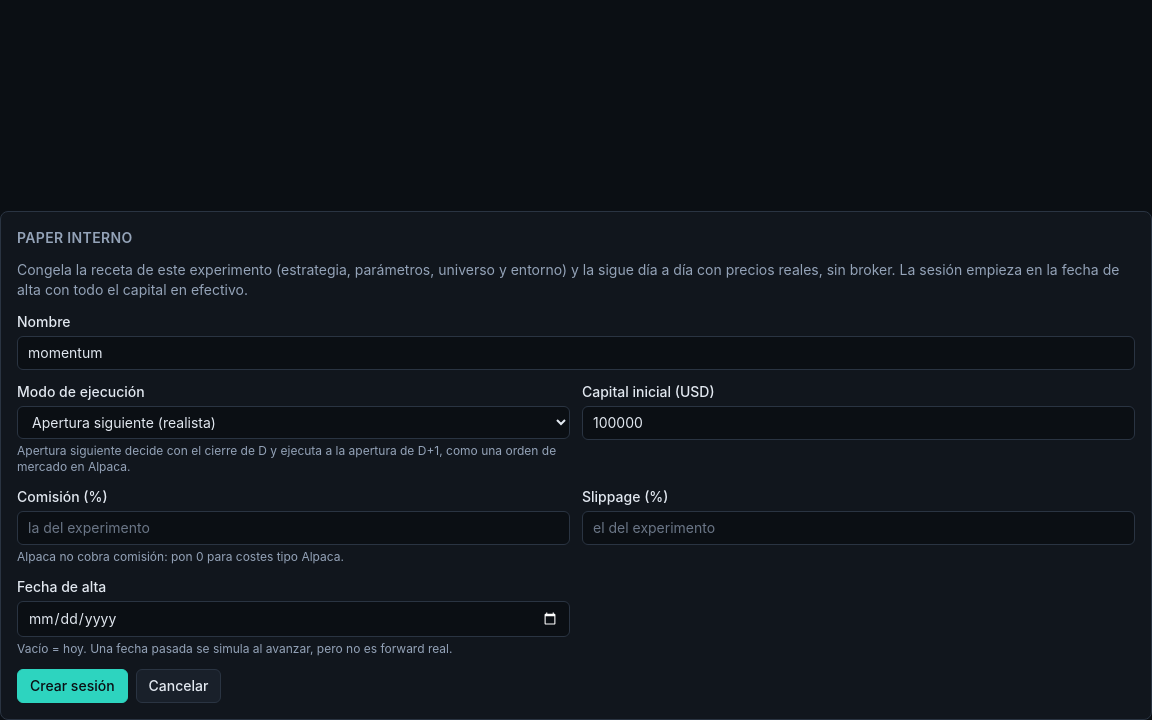
Test: CrearSesionPaper › crea la sesión y navega a su detalle
(page scrolled)
Select "Al cierre (optimista, como el backtest)" in the dropdown labelled "Modo de ejecución": (294, 422) 17,406 -> 570,439
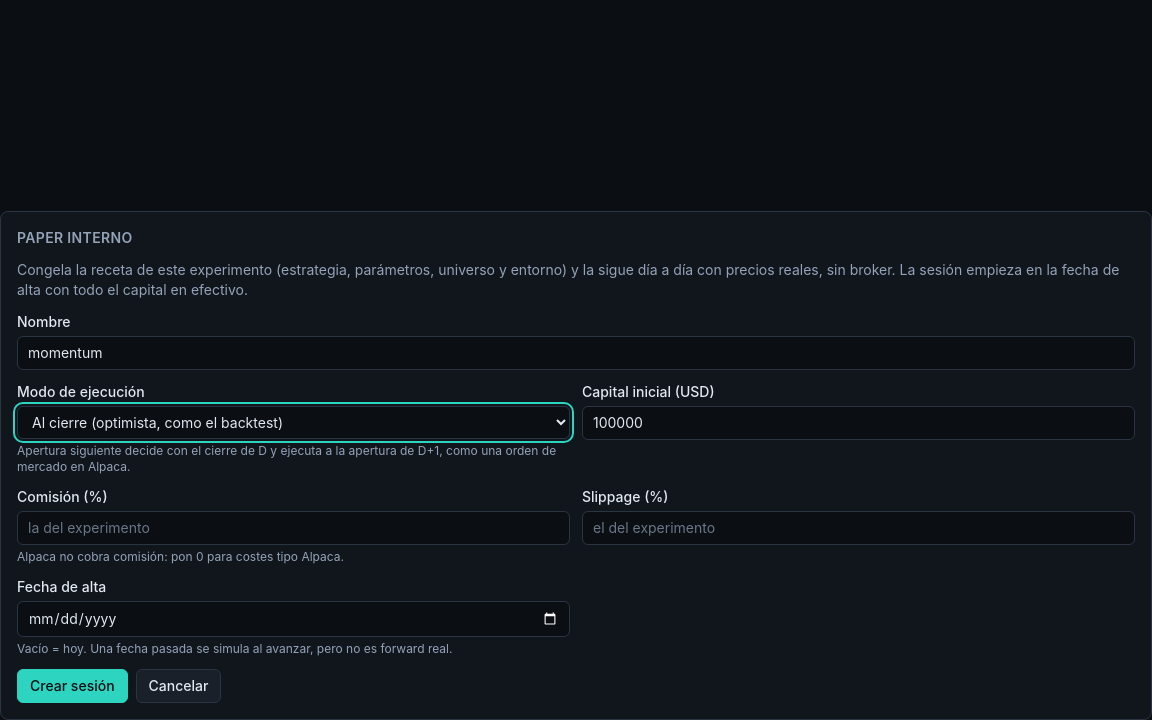
Click the button "Crear sesión": (72, 686) 17,669 -> 128,703
(page scrolled)
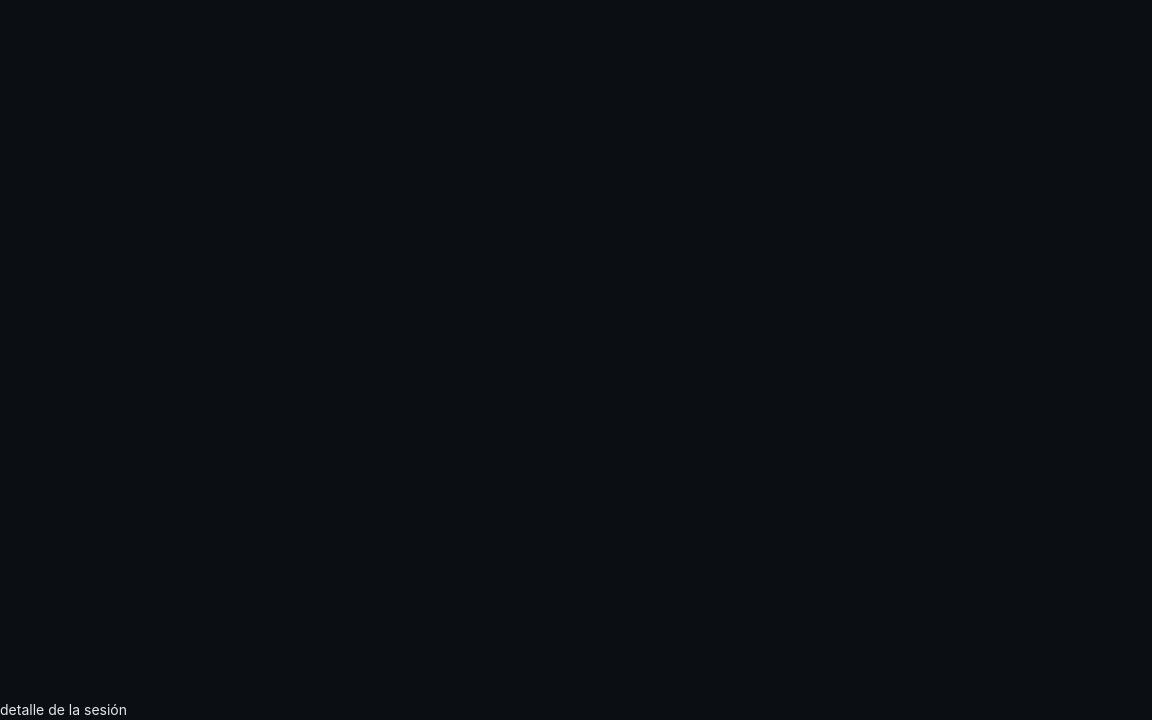
Check: the text "detalle de la sesión" is shown, box 0,701 -> 127,718
